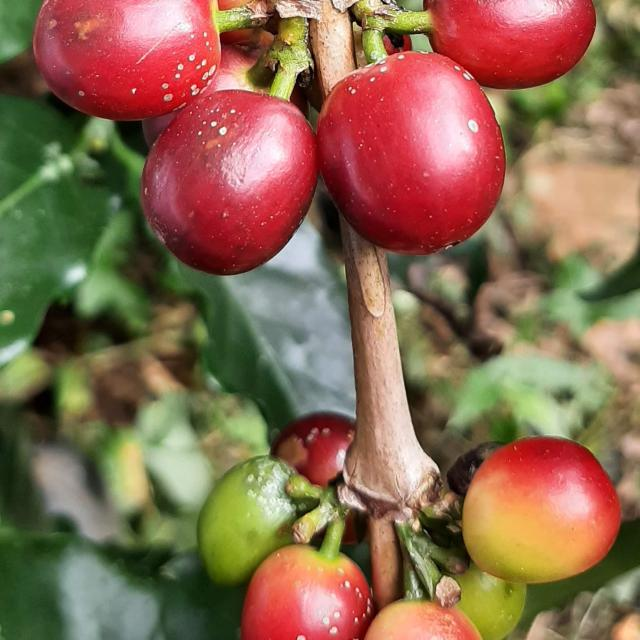green: (197, 456, 298, 588), (456, 565, 527, 640)
red: (317, 51, 506, 254), (140, 89, 318, 275), (33, 0, 220, 120), (426, 0, 597, 88), (271, 412, 355, 488), (202, 44, 269, 95), (141, 110, 178, 146), (292, 85, 307, 113)
yellow: (463, 437, 622, 585), (241, 546, 374, 640), (365, 601, 483, 640)
